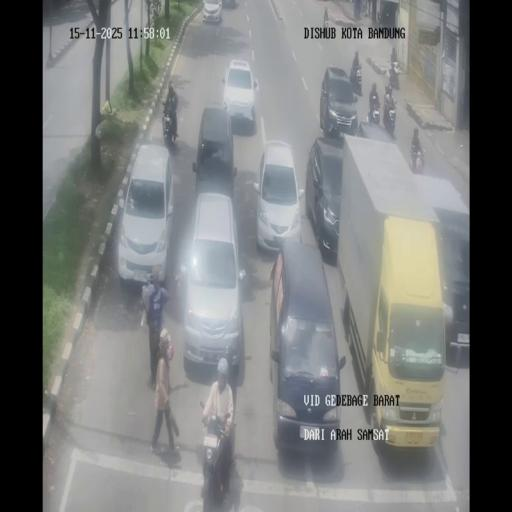3: (335, 139, 451, 447)
car: (271, 240, 343, 455), (180, 191, 244, 372), (118, 142, 174, 284), (254, 137, 303, 254), (306, 135, 345, 260), (193, 106, 235, 196), (221, 57, 258, 133), (320, 65, 358, 138), (202, 0, 223, 24)
truck: (198, 400, 236, 510), (162, 98, 180, 144), (383, 95, 396, 135), (410, 143, 425, 175), (367, 95, 381, 125), (350, 60, 362, 94), (388, 62, 400, 90), (360, 0, 368, 17), (153, 0, 161, 16), (390, 46, 396, 66), (323, 6, 329, 24), (376, 5, 381, 23)
